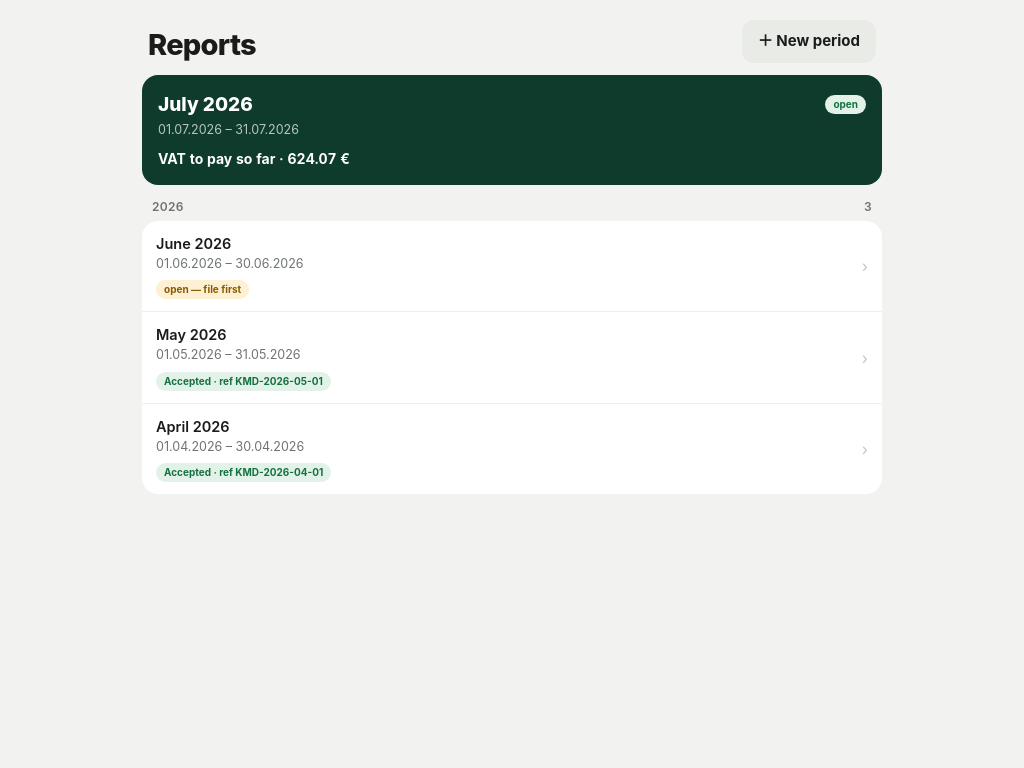
it: ReportsScreen › NewPeriodSheet: opens from the header, submits the server-computed next period
Expected: the text "July 2026" is shown, [158, 90, 253, 119]
Step 1. Click the button "＋ New period" → (809, 41), box [742, 20, 876, 62]
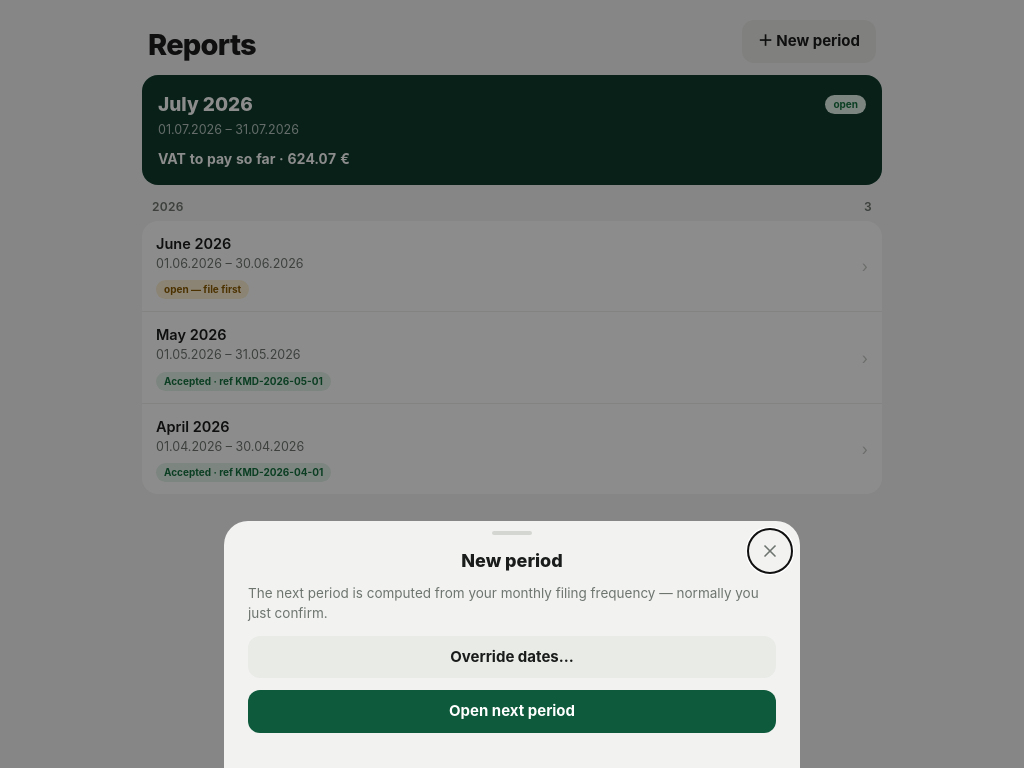
Expected: the text "computed from your monthly filing frequency" is shown, [248, 582, 776, 623]
Step 2. Click the button "Open next period" → (512, 711), box [248, 690, 776, 732]
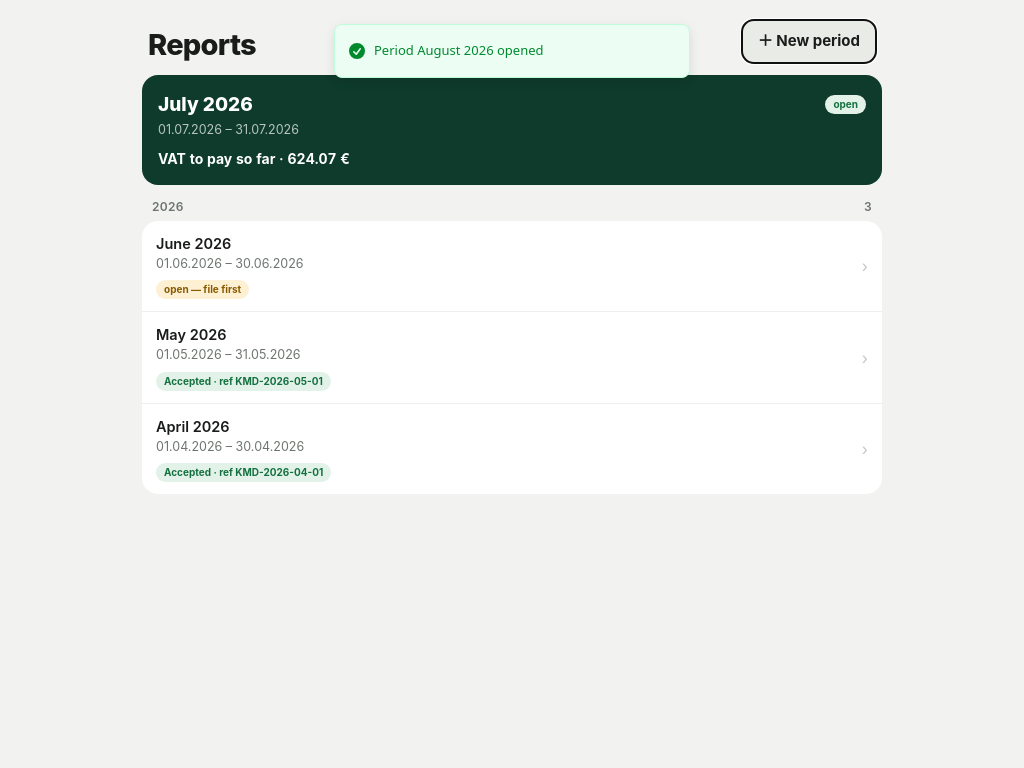
Expected: the text "Period August 2026 opened" is shown, [374, 41, 544, 60]
